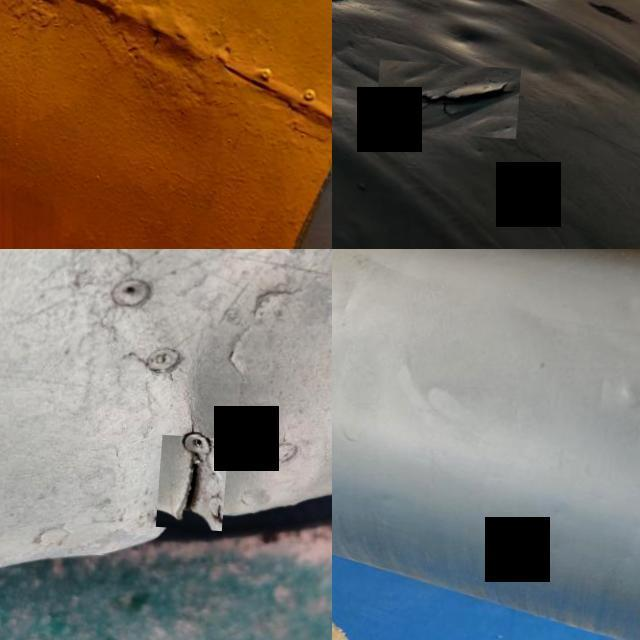Crack: (380, 56, 526, 132), (163, 432, 234, 528)
Dent: (526, 9, 640, 133), (437, 1, 514, 52), (605, 361, 640, 416)
